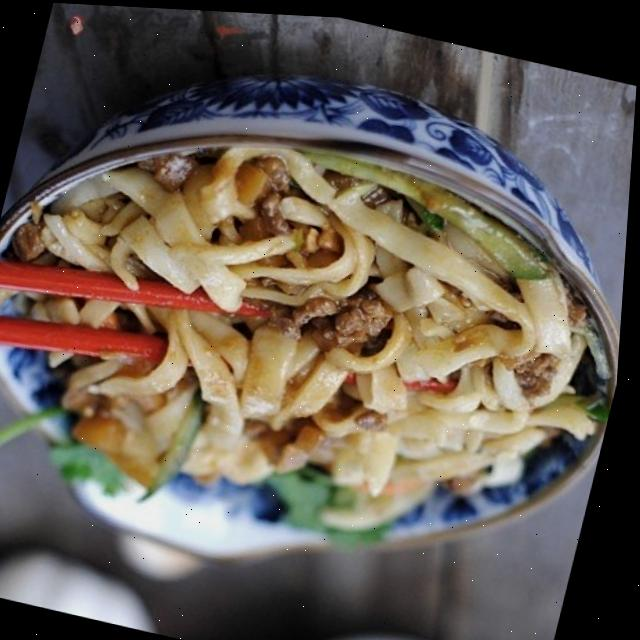面条主食: (0, 58, 637, 606)
